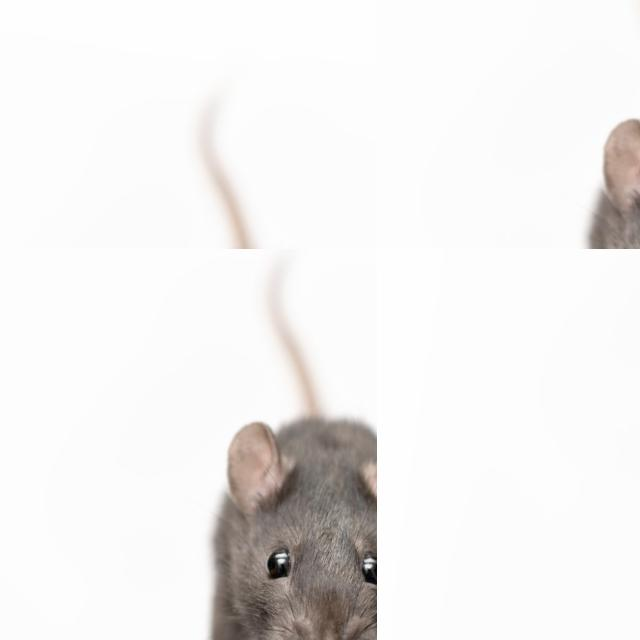rat: (214, 248, 375, 640), (588, 119, 640, 250)
